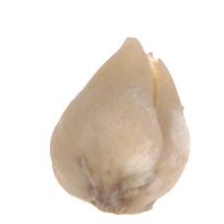L1: (125, 35, 163, 92), (89, 186, 148, 215)
L2: (50, 38, 190, 215)
